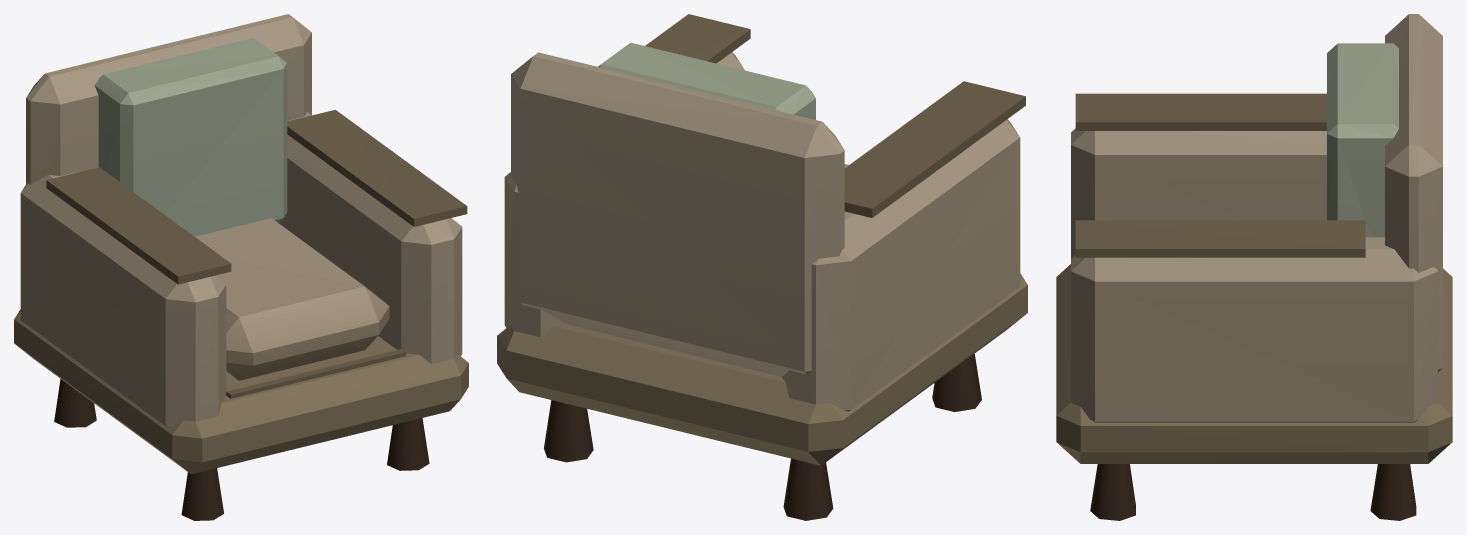
Rendered from nursing_glider.glb.
3 views of the same model, side by side, from view 1: azimuth 30°, elevation 25°; view 2: azimuth 150°, elevation 25°; view 3: azimuth 270°, elevation 25° (orthographic). The views are drawn at different scales.
Parts seen in each view (by area): view 1: nursing_glider; view 2: nursing_glider; view 3: nursing_glider.
Part boxes in pixels (left/top/right/bottom): nursing_glider: left=14, top=14, right=468, bottom=520; nursing_glider: left=497, top=14, right=1027, bottom=520; nursing_glider: left=1056, top=14, right=1452, bottom=520.
Size of the model in its own units: 0.78 by 0.86 by 0.82.
